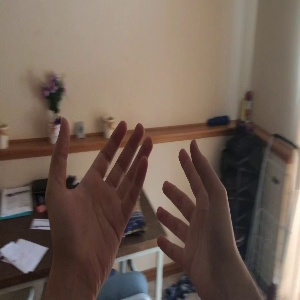hand: (46, 117, 153, 290), (157, 140, 252, 294)
